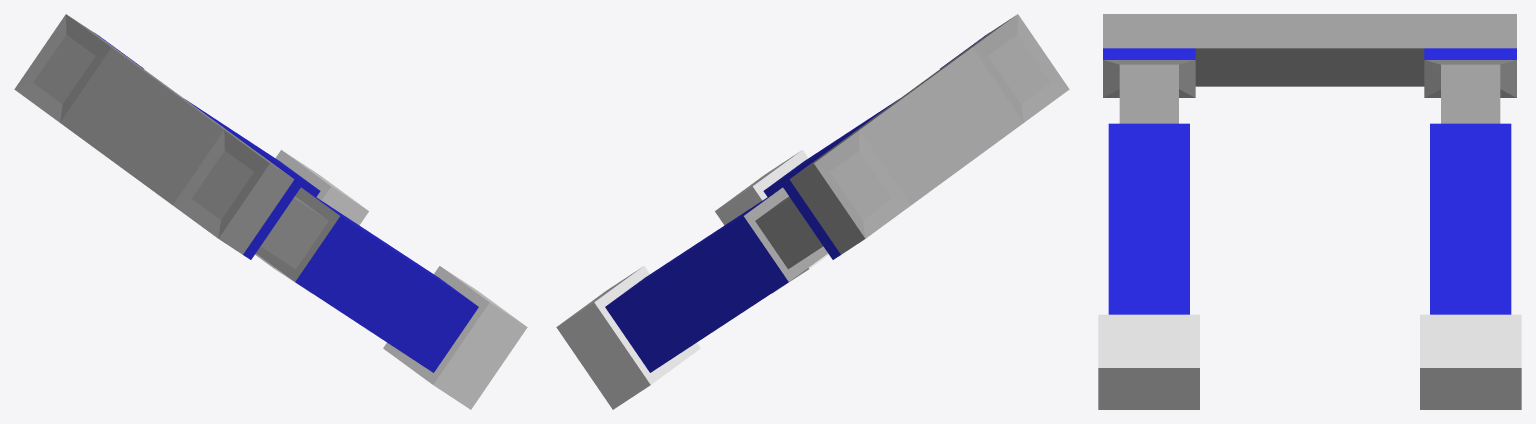
Rendered from PalancaModelo.fbx.
The picture shows the model from 3 angles, left to right: view 1: azimuth 30°, elevation 25°; view 2: azimuth 150°, elevation 25°; view 3: azimuth 270°, elevation 25°; orthographic projection.
Visible parts, largest first — view 1: Cube.022; view 2: Cube.022; view 3: Cube.022.
Part boxes in pixels (bbox=[...]): Cube.022: bbox=[14, 14, 527, 409]; Cube.022: bbox=[556, 14, 1069, 409]; Cube.022: bbox=[1098, 14, 1521, 409].
Size of the model in its own units: 3.86 by 3.52 by 4.54.
